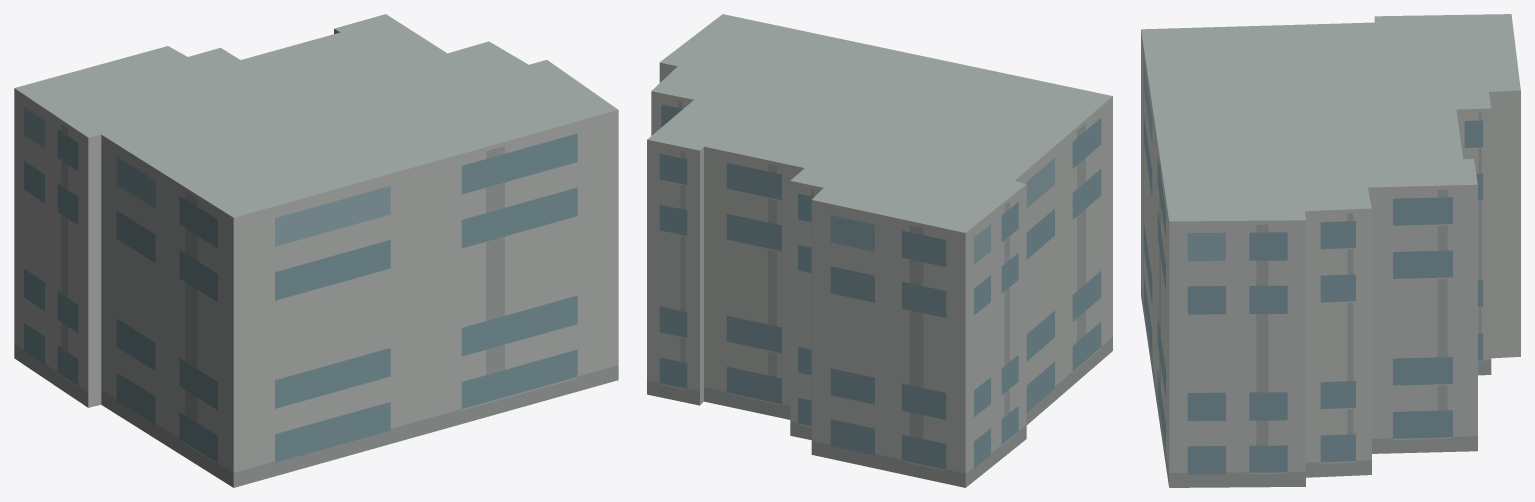
File: survey-upis-32924231.glb
3 renders of one model, left to right at view 1: azimuth 30°, elevation 25°; view 2: azimuth 150°, elevation 25°; view 3: azimuth 270°, elevation 25°, orthographic. The views are drawn at different scales.
Visible parts, largest first — view 1: survey-upis-32924231.tmp; view 2: survey-upis-32924231.tmp; view 3: survey-upis-32924231.tmp.
Boxes of the visible parts, x1,y1,x2,y2 form: survey-upis-32924231.tmp: (14, 14, 618, 487); survey-upis-32924231.tmp: (647, 14, 1112, 487); survey-upis-32924231.tmp: (1141, 14, 1520, 487).
Bounding box in the file's own units: 25.98 × 15.56 × 20.11.
